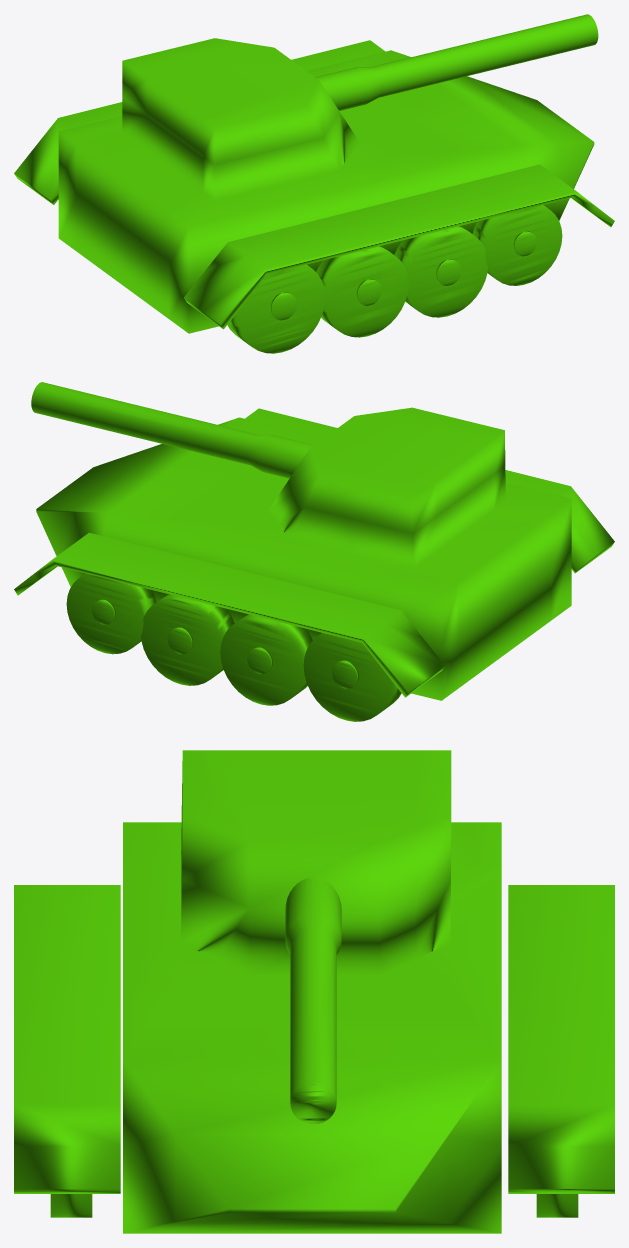
Rendered from tank(Anim).fbx.
3 renders of one model, top to bottom at view 1: azimuth 30°, elevation 25°; view 2: azimuth 150°, elevation 25°; view 3: azimuth 270°, elevation 25°, orthographic. The views are drawn at different scales.
Parts seen in each view (by area): view 1: Cube_004; view 2: Cube_004; view 3: Cube_004.
Boxes of the visible parts, x1,y1,x2,y2 form: Cube_004: [14, 14, 614, 353]; Cube_004: [14, 382, 614, 721]; Cube_004: [14, 750, 614, 1233].
Size of the model in its own units: 11.22 by 4.57 by 8.48.
